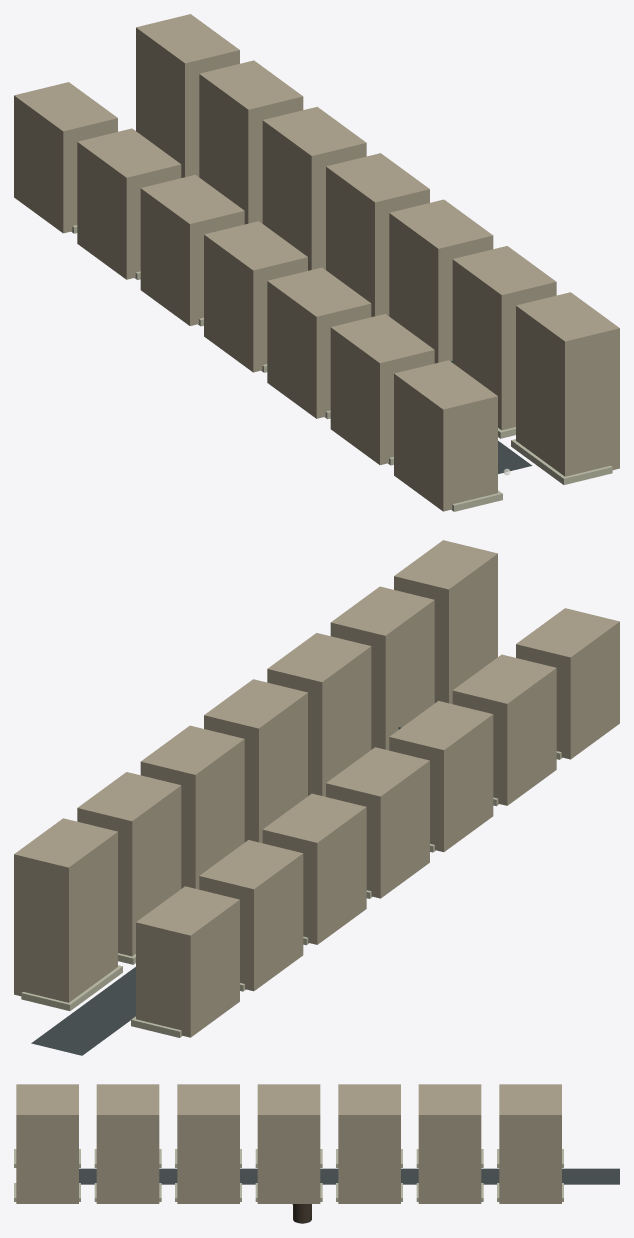
The model's file is sinkhole.glb.
3 views of the same model, one above another, from view 1: azimuth 30°, elevation 25°; view 2: azimuth 150°, elevation 25°; view 3: azimuth 270°, elevation 25° (orthographic). The views are drawn at different scales.
Visible parts, largest first — view 1: Mesh_28, Mesh_26, Mesh_32, Mesh_36, Mesh_48, Mesh_52, Mesh_44, Mesh_40, Mesh_46, Mesh_30, Mesh_34, Mesh_42 (+3 smaller); view 2: Mesh_52, Mesh_50, Mesh_48, Mesh_32, Mesh_44, Mesh_36, Mesh_40, Mesh_28, Mesh_30, Mesh_34, Mesh_42, Mesh_46 (+4 smaller); view 3: Mesh_32, Mesh_40, Mesh_48, Mesh_28, Mesh_36, Mesh_44, Mesh_52, Mesh_0, Mesh_30, Mesh_38, Mesh_46, Mesh_26 (+4 smaller).
Part boxes in pixels (x1,y1,x2,y2): Mesh_28: (516, 292, 619, 476); Mesh_26: (394, 360, 497, 511); Mesh_32: (452, 246, 556, 430); Mesh_36: (389, 199, 493, 363); Mesh_48: (199, 60, 303, 224); Mesh_52: (136, 14, 239, 177); Mesh_44: (262, 106, 366, 270); Mesh_40: (326, 153, 429, 316); Mesh_46: (77, 128, 181, 279); Mesh_30: (330, 314, 434, 464); Mesh_34: (267, 267, 371, 418); Mesh_42: (140, 174, 244, 325); Mesh_52: (14, 818, 117, 1002); Mesh_50: (136, 886, 239, 1037); Mesh_48: (77, 772, 181, 956); Mesh_32: (330, 586, 434, 750); Mesh_44: (140, 725, 244, 889); Mesh_36: (267, 633, 371, 796); Mesh_40: (204, 679, 307, 843); Mesh_28: (394, 540, 497, 703); Mesh_30: (452, 654, 556, 805); Mesh_34: (389, 701, 493, 851); Mesh_42: (262, 793, 366, 944); Mesh_46: (199, 840, 303, 991); Mesh_32: (96, 1098, 159, 1203); Mesh_40: (257, 1098, 320, 1203); Mesh_48: (418, 1098, 481, 1203); Mesh_28: (16, 1098, 78, 1203); Mesh_36: (177, 1098, 239, 1203); Mesh_44: (338, 1098, 400, 1203); Mesh_52: (499, 1098, 561, 1203); Mesh_0: (79, 1168, 619, 1184); Mesh_30: (96, 1084, 159, 1097); Mesh_38: (257, 1084, 320, 1097); Mesh_46: (418, 1084, 481, 1097); Mesh_26: (16, 1084, 78, 1097).
Size of the model in its own units: 29 by 31.97 by 136.
21 materials, 1 textured.
